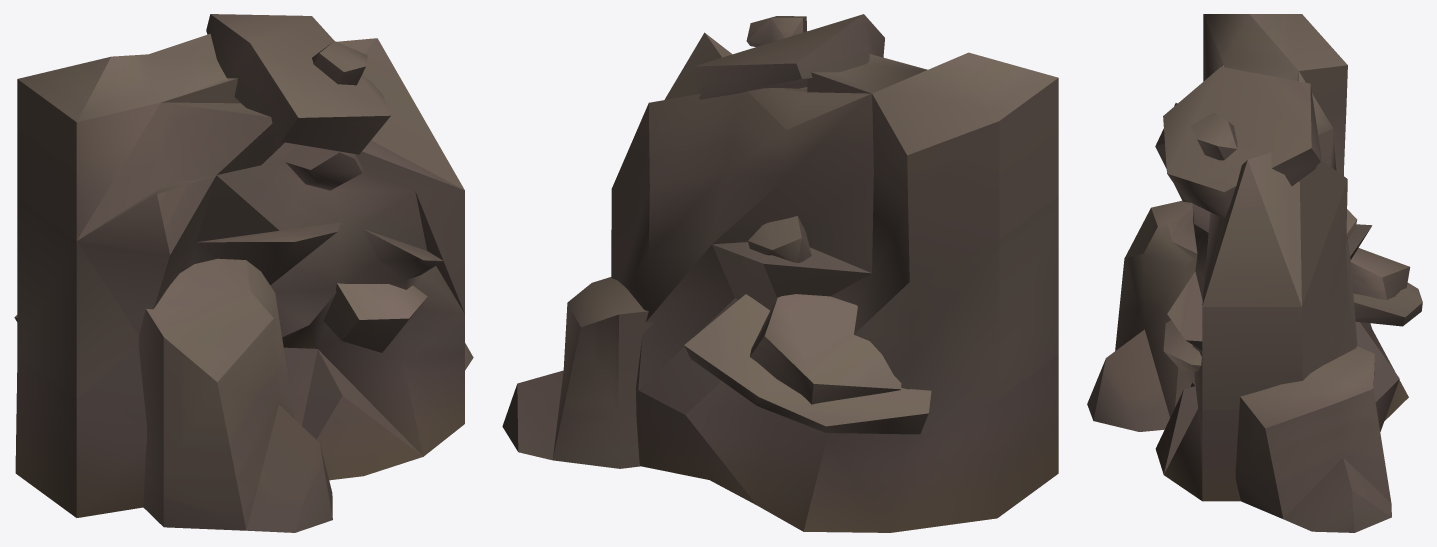
File: kay-entulho-pequeno.gltf
3 views of the same model, side by side, from view 1: azimuth 30°, elevation 25°; view 2: azimuth 150°, elevation 25°; view 3: azimuth 270°, elevation 25° (orthographic). The views are drawn at different scales.
Visible parts, largest first — view 1: rubble_half; view 2: rubble_half; view 3: rubble_half.
Boxes of the visible parts, bbox=[...] form: rubble_half: bbox=[14, 14, 473, 532]; rubble_half: bbox=[502, 14, 1058, 532]; rubble_half: bbox=[1087, 14, 1422, 532].
Size of the model in its own units: 2.6 by 2.28 by 1.95.
Materials: 1 (1 with a texture image).
